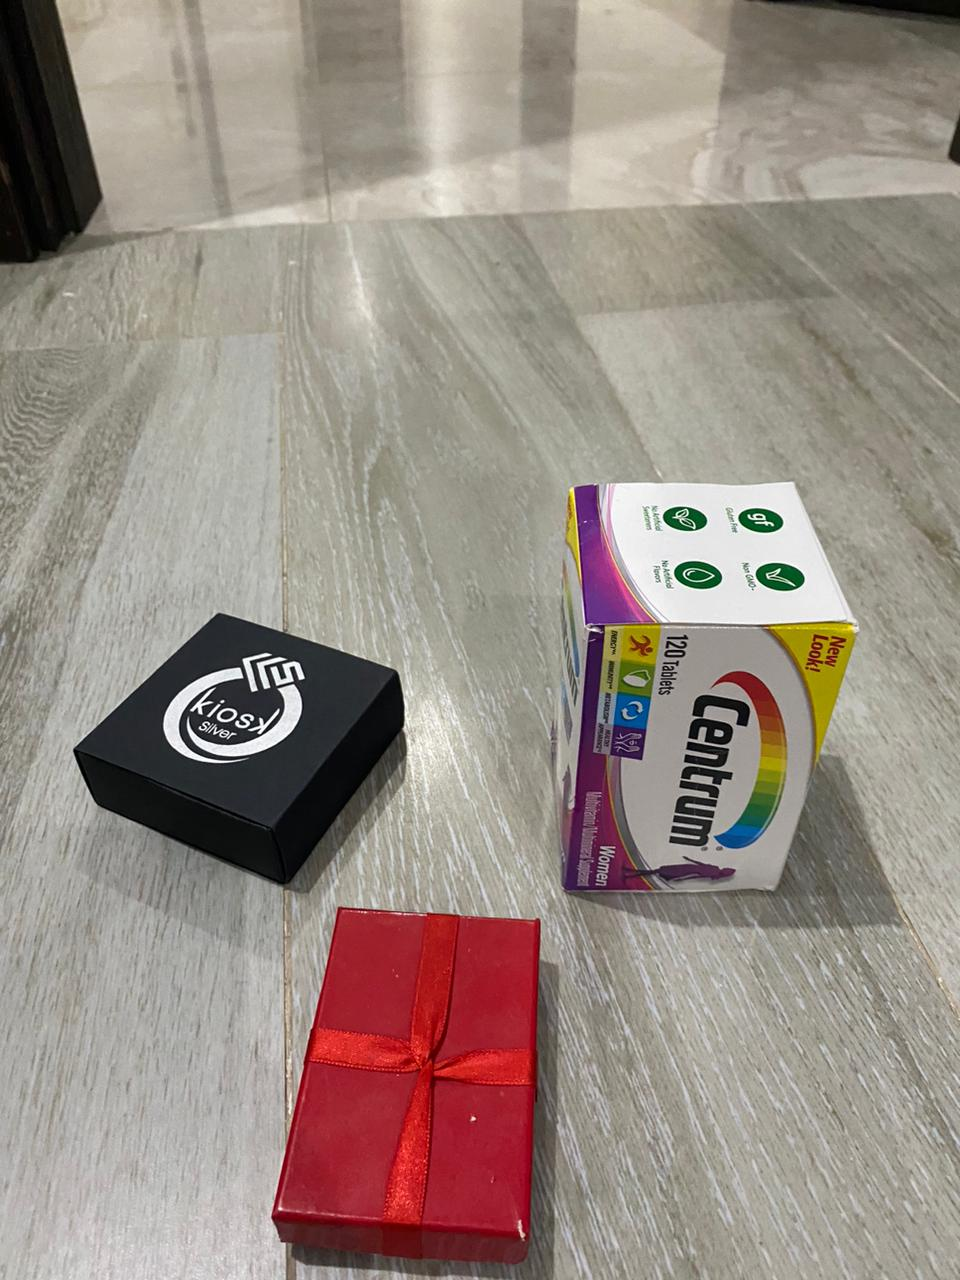Black Box: (272, 902, 545, 1267)
Centrum: (549, 481, 861, 898)
Red Box: (68, 609, 408, 886)
